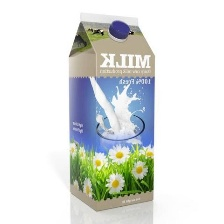carton: (64, 11, 161, 214)
